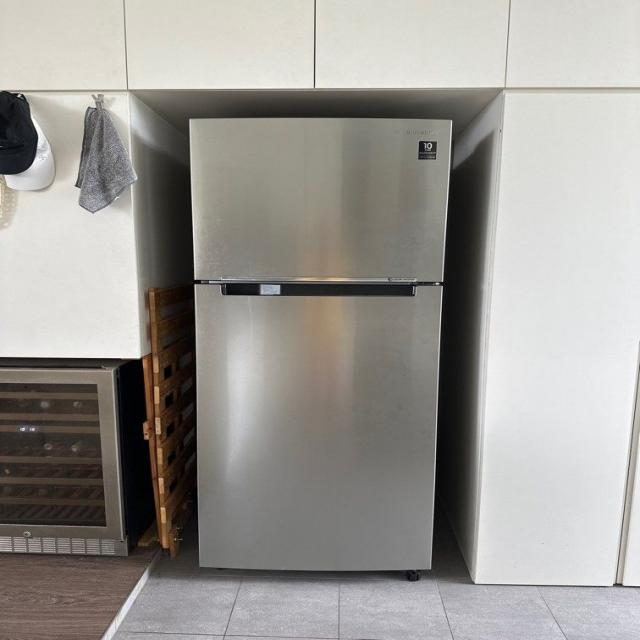refrigerator: (189, 116, 452, 571)
